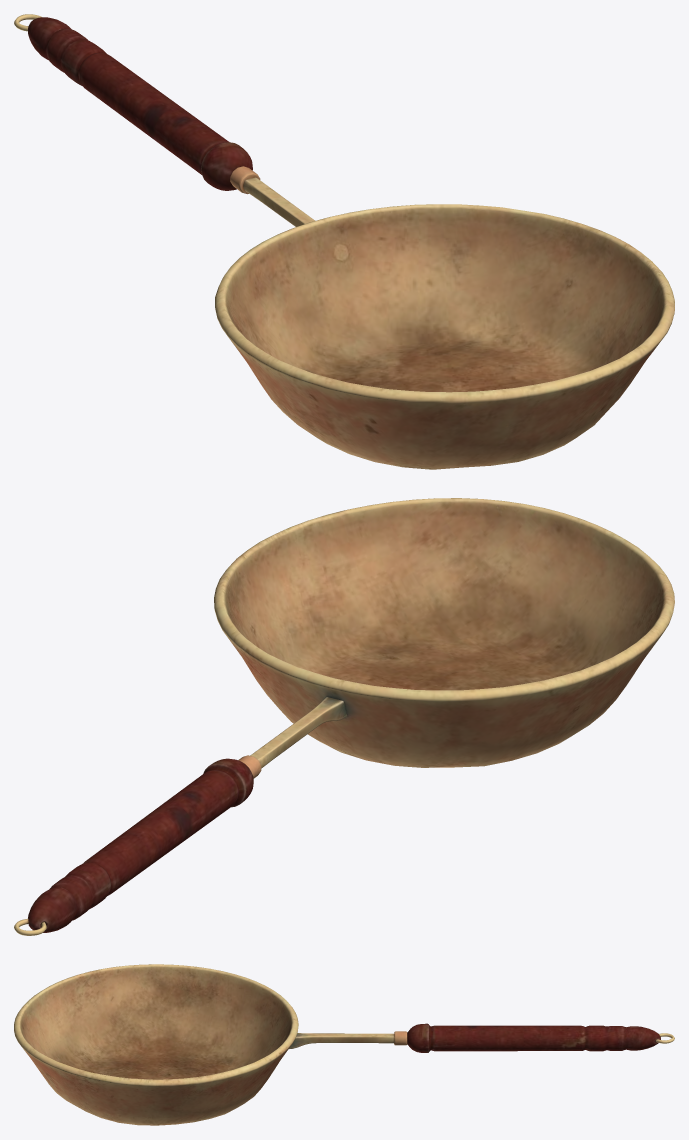
The model's file is brass_pan_01.gltf.
3 renders of one model, top to bottom at view 1: azimuth 30°, elevation 25°; view 2: azimuth 150°, elevation 25°; view 3: azimuth 270°, elevation 25°, orthographic. The views are drawn at different scales.
Parts seen in each view (by area): view 1: brass_pan_01; view 2: brass_pan_01; view 3: brass_pan_01.
Boxes of the visible parts, bbox=[...] form: brass_pan_01: bbox=[14, 14, 674, 469]; brass_pan_01: bbox=[14, 498, 674, 935]; brass_pan_01: bbox=[14, 964, 674, 1125].
Size of the model in its own units: 0.1913 by 0.0525 by 0.4497.
Materials: 1 (1 with a texture image).
